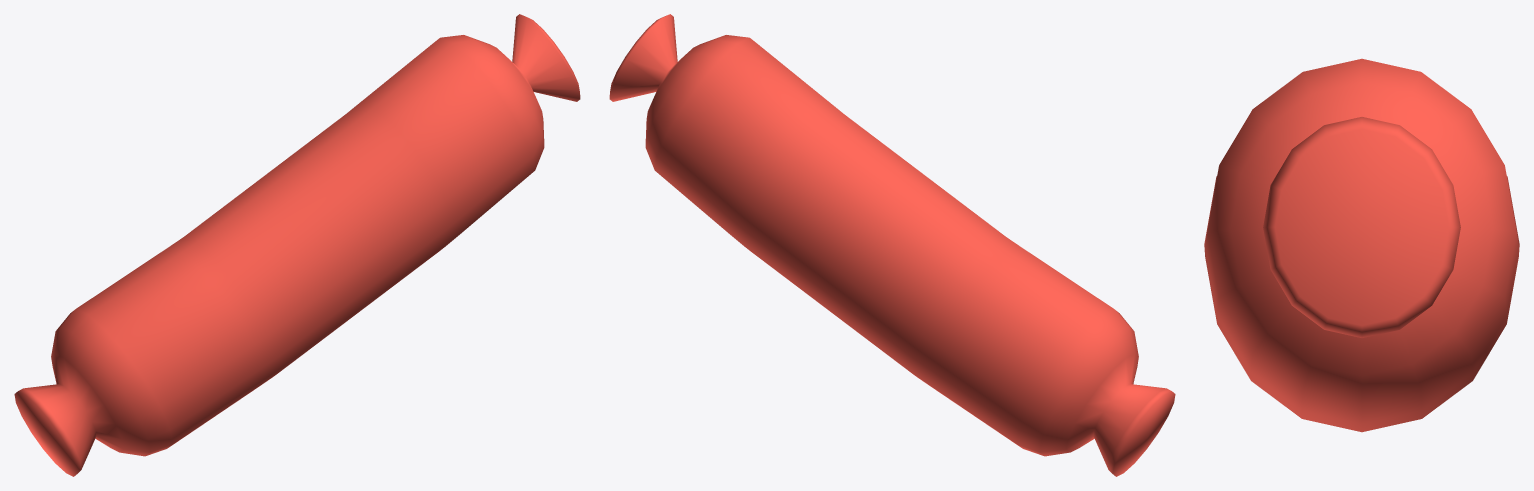
File: salchicha.fbx
3 views of the same model, side by side, from view 1: azimuth 30°, elevation 25°; view 2: azimuth 150°, elevation 25°; view 3: azimuth 270°, elevation 25° (orthographic). The views are drawn at different scales.
Parts seen in each view (by area): view 1: salchicha; view 2: salchicha; view 3: salchicha.
Part boxes in pixels (x1,y1,x2,y2): salchicha: [14, 14, 580, 476]; salchicha: [609, 14, 1175, 476]; salchicha: [1204, 58, 1519, 432].
Size of the model in its own units: 22.87 by 13.76 by 5.74.
